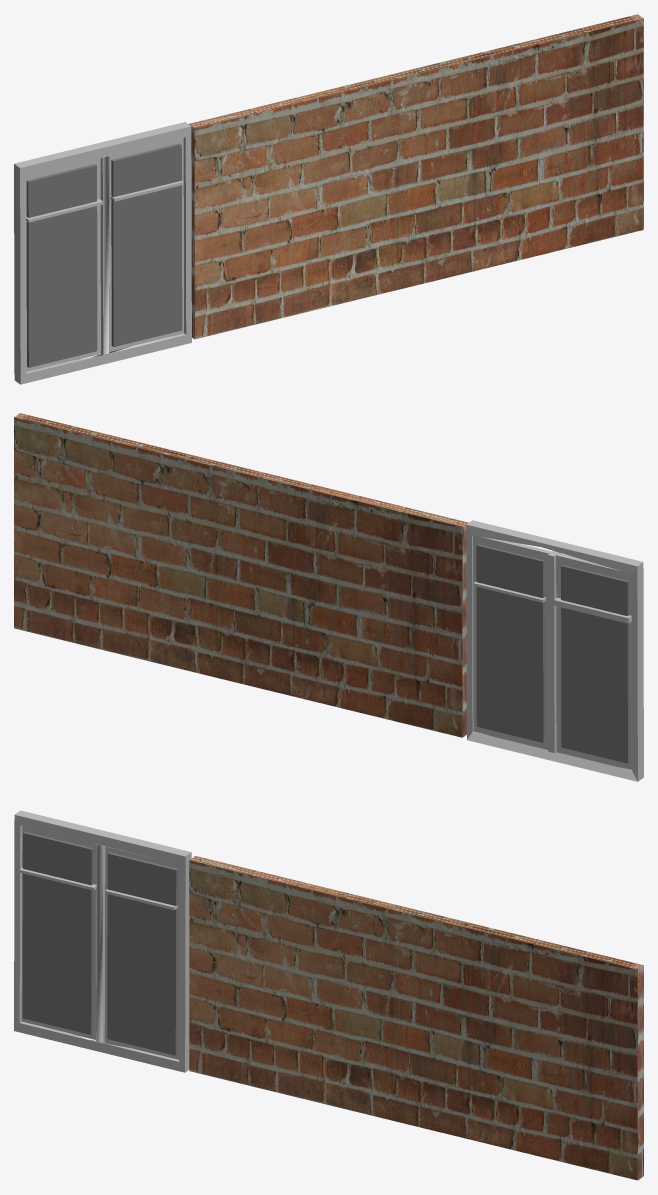
File: 4-Part_Window_w_BrickWall.FBX
3 views of the same model, one above another, from view 1: azimuth 30°, elevation 25°; view 2: azimuth 150°, elevation 25°; view 3: azimuth 330°, elevation 25° (orthographic).
Parts seen in each view (by area): view 1: Box023, Plane002, Window_Frame, Window_Pane; view 2: Box023, Plane002, Window_Frame, Window_Pane; view 3: Box023, Plane002, Window_Frame, Window_Pane.
Part boxes in pixels (x1=…): Box023: x1=189, y1=14, x2=643, y2=339; Plane002: x1=26, y1=143, x2=182, y2=367; Window_Frame: x1=14, y1=122, x2=191, y2=384; Window_Pane: x1=25, y1=137, x2=183, y2=371; Box023: x1=14, y1=413, x2=468, y2=737; Plane002: x1=476, y1=544, x2=629, y2=763; Window_Frame: x1=466, y1=520, x2=643, y2=781; Window_Pane: x1=473, y1=535, x2=632, y2=769; Box023: x1=189, y1=856, x2=643, y2=1180; Plane002: x1=22, y1=831, x2=177, y2=1055; Window_Frame: x1=14, y1=810, x2=191, y2=1072; Window_Pane: x1=21, y1=826, x2=179, y2=1059.
Size of the model in its own units: 36.88 by 12.21 by 1.04.
Materials: 3 (1 with a texture image).
